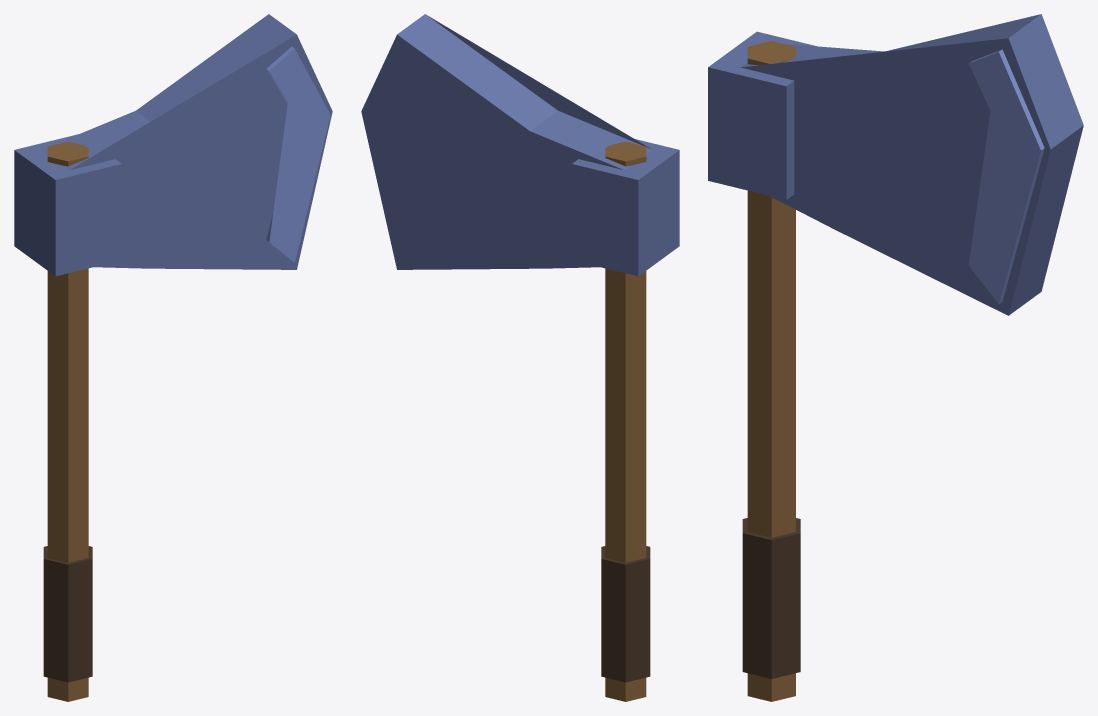
Rendered from mithrilAxe.glb.
3 renders of one model, left to right at view 1: azimuth 30°, elevation 25°; view 2: azimuth 150°, elevation 25°; view 3: azimuth 330°, elevation 25°, orthographic. The views are drawn at different scales.
Visible parts, largest first — view 1: mithrilAxe; view 2: mithrilAxe; view 3: mithrilAxe.
Part boxes in pixels (x1,y1,x2,y2): mithrilAxe: (14, 14, 332, 701); mithrilAxe: (361, 14, 679, 701); mithrilAxe: (708, 14, 1083, 701).
Size of the model in its own units: 0.4826 by 1 by 0.1217.
